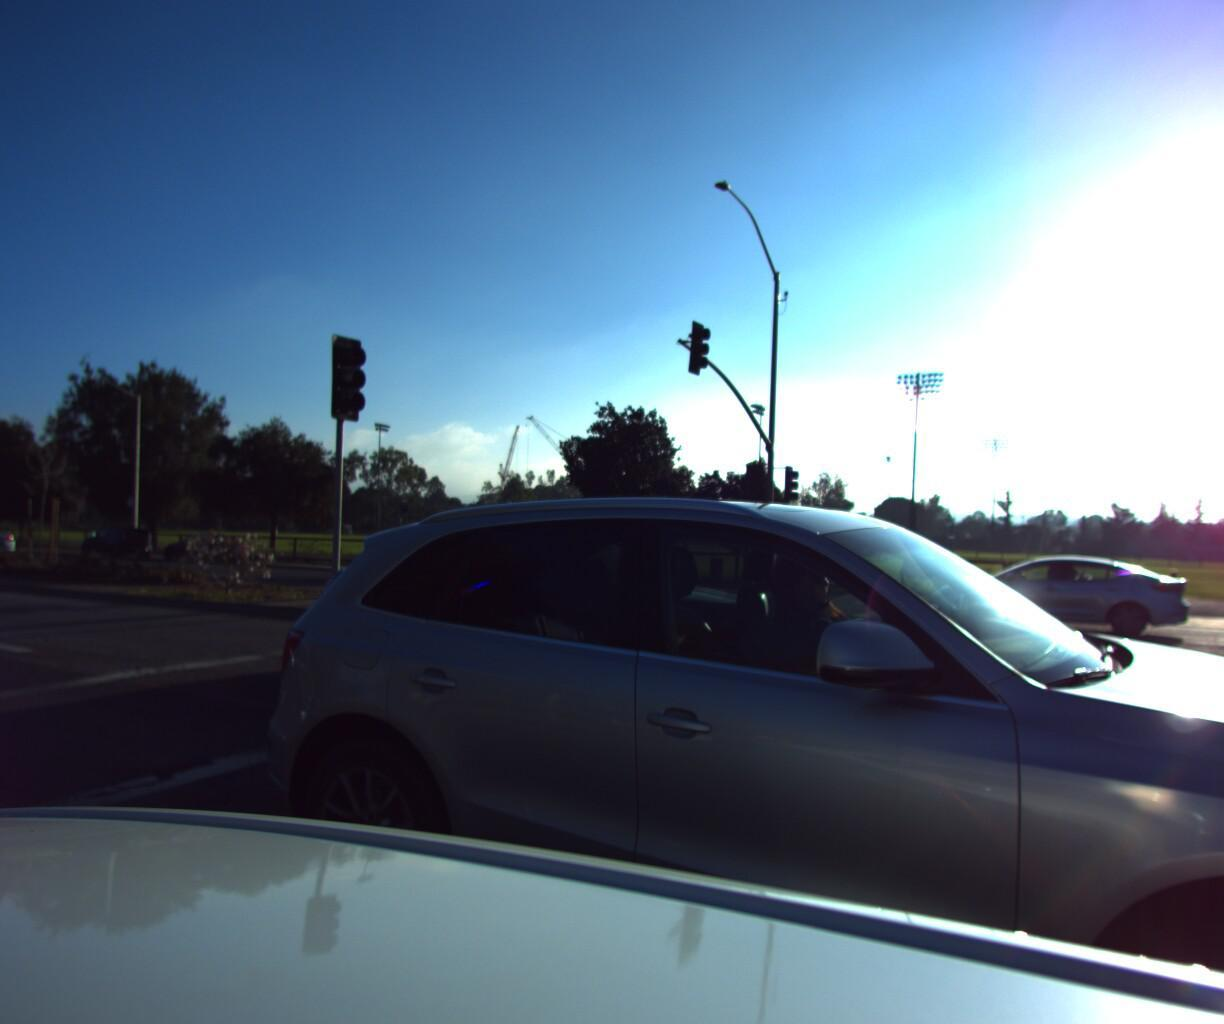car: (210, 463, 1224, 1024), (305, 508, 813, 732), (925, 546, 1185, 637), (155, 524, 255, 561), (69, 520, 156, 556), (0, 513, 17, 554)
